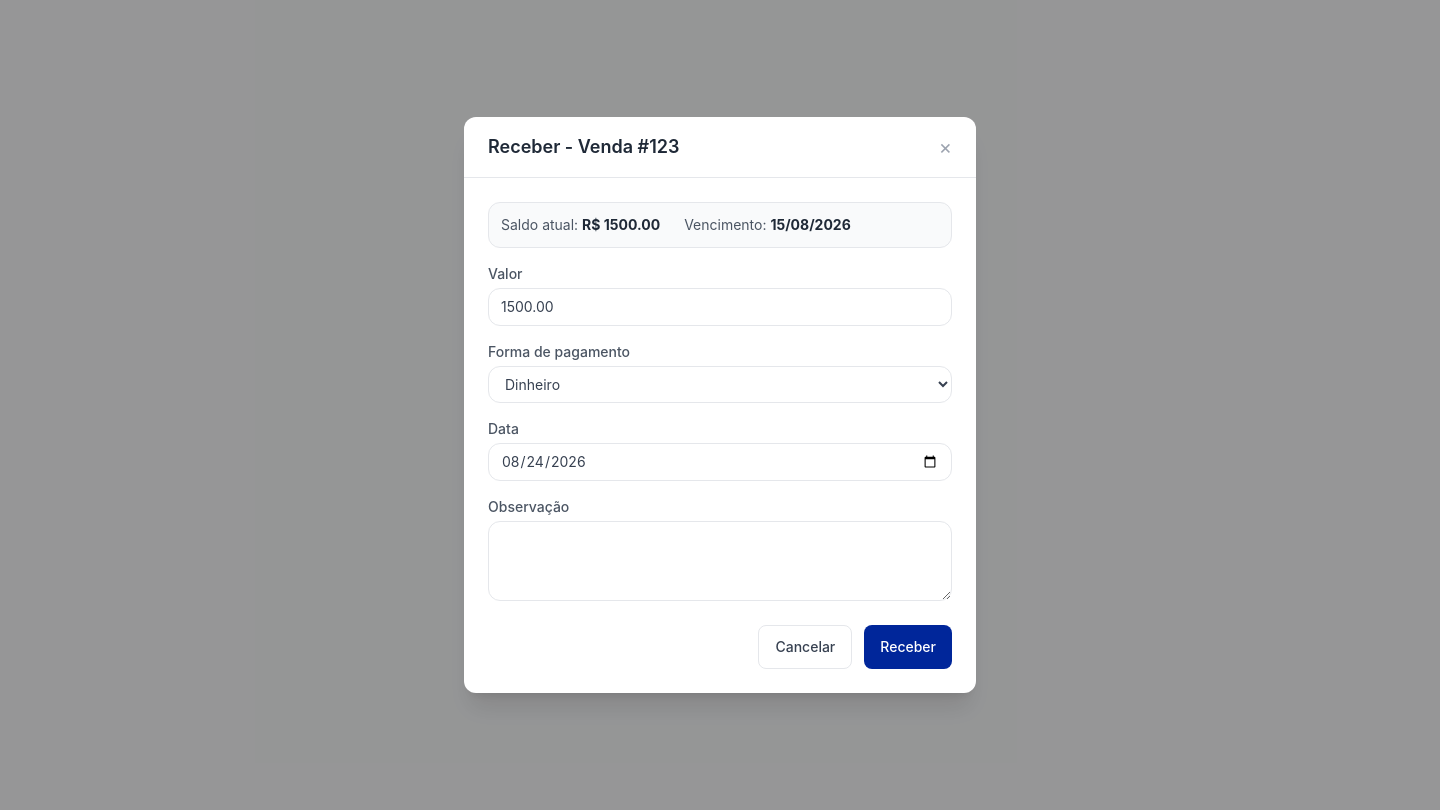
Test: SettlementDialog › prevents over-settlement with validation error
Replace the text in the number field with test id "settlement-amount" with "2000" at x=720, y=307, box [488,288,952,326]
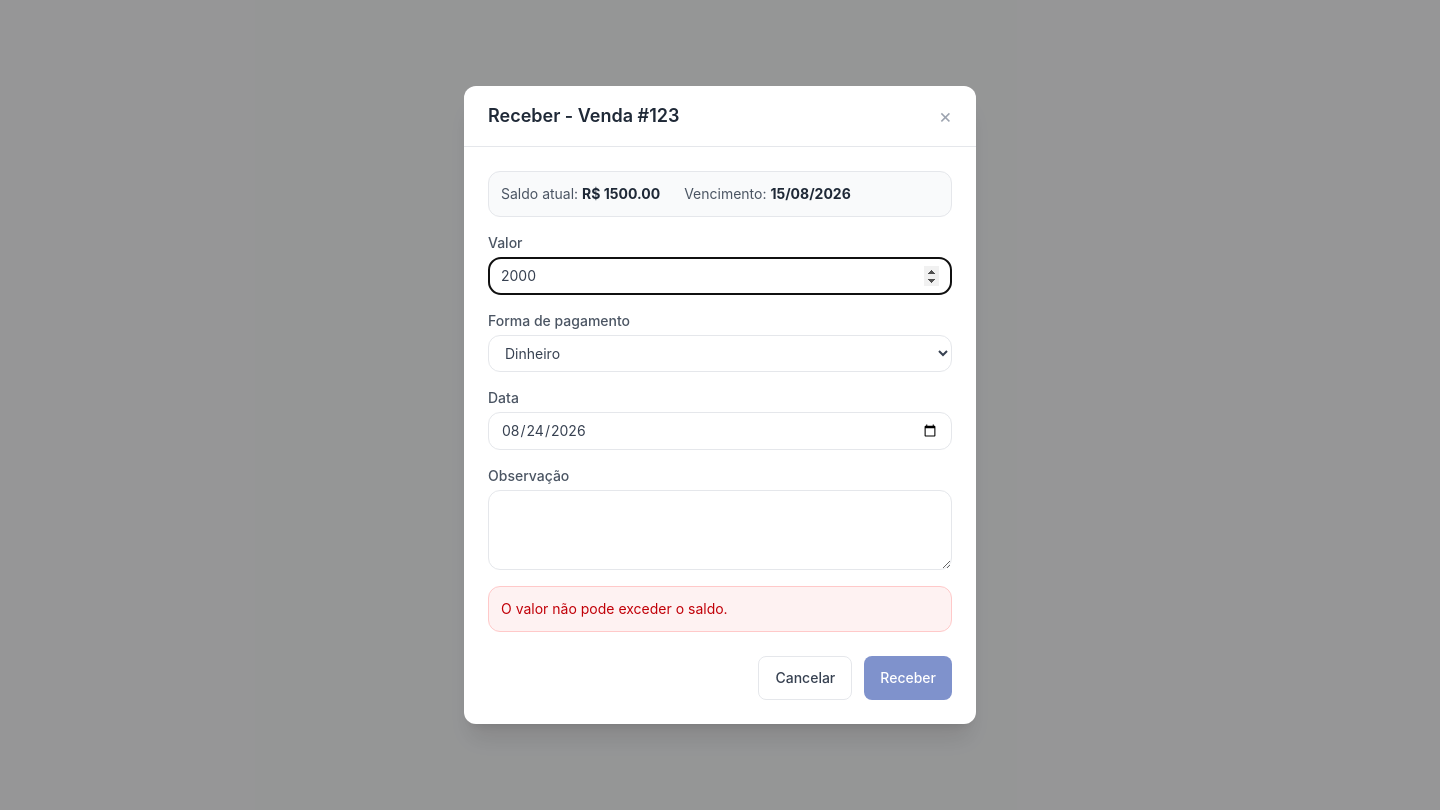
Now the text "O valor não pode exceder o saldo." is shown, box [488,586,952,632]
